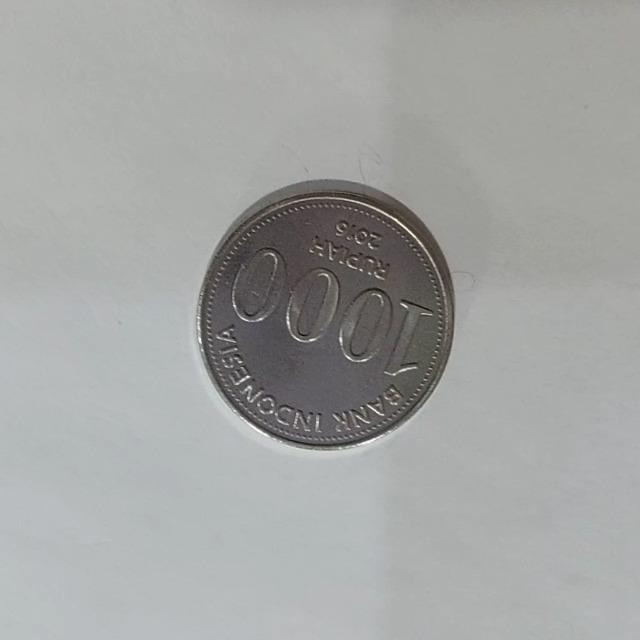Rp100: (194, 177, 456, 451)
